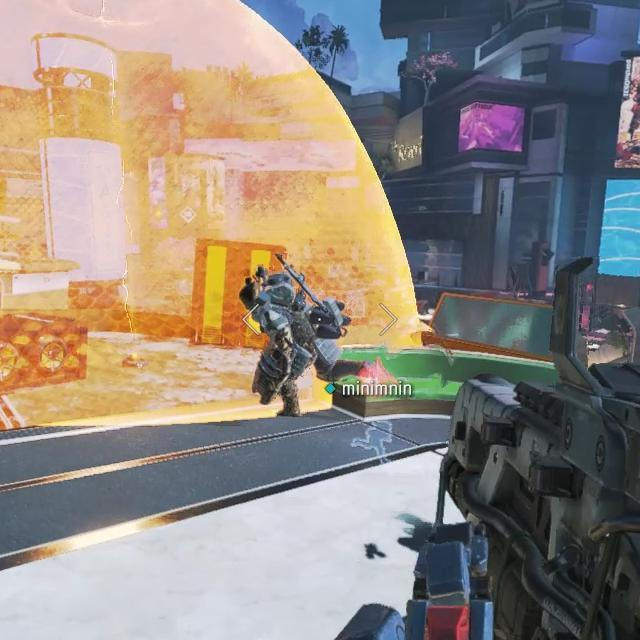avatar: (235, 261, 347, 414)
